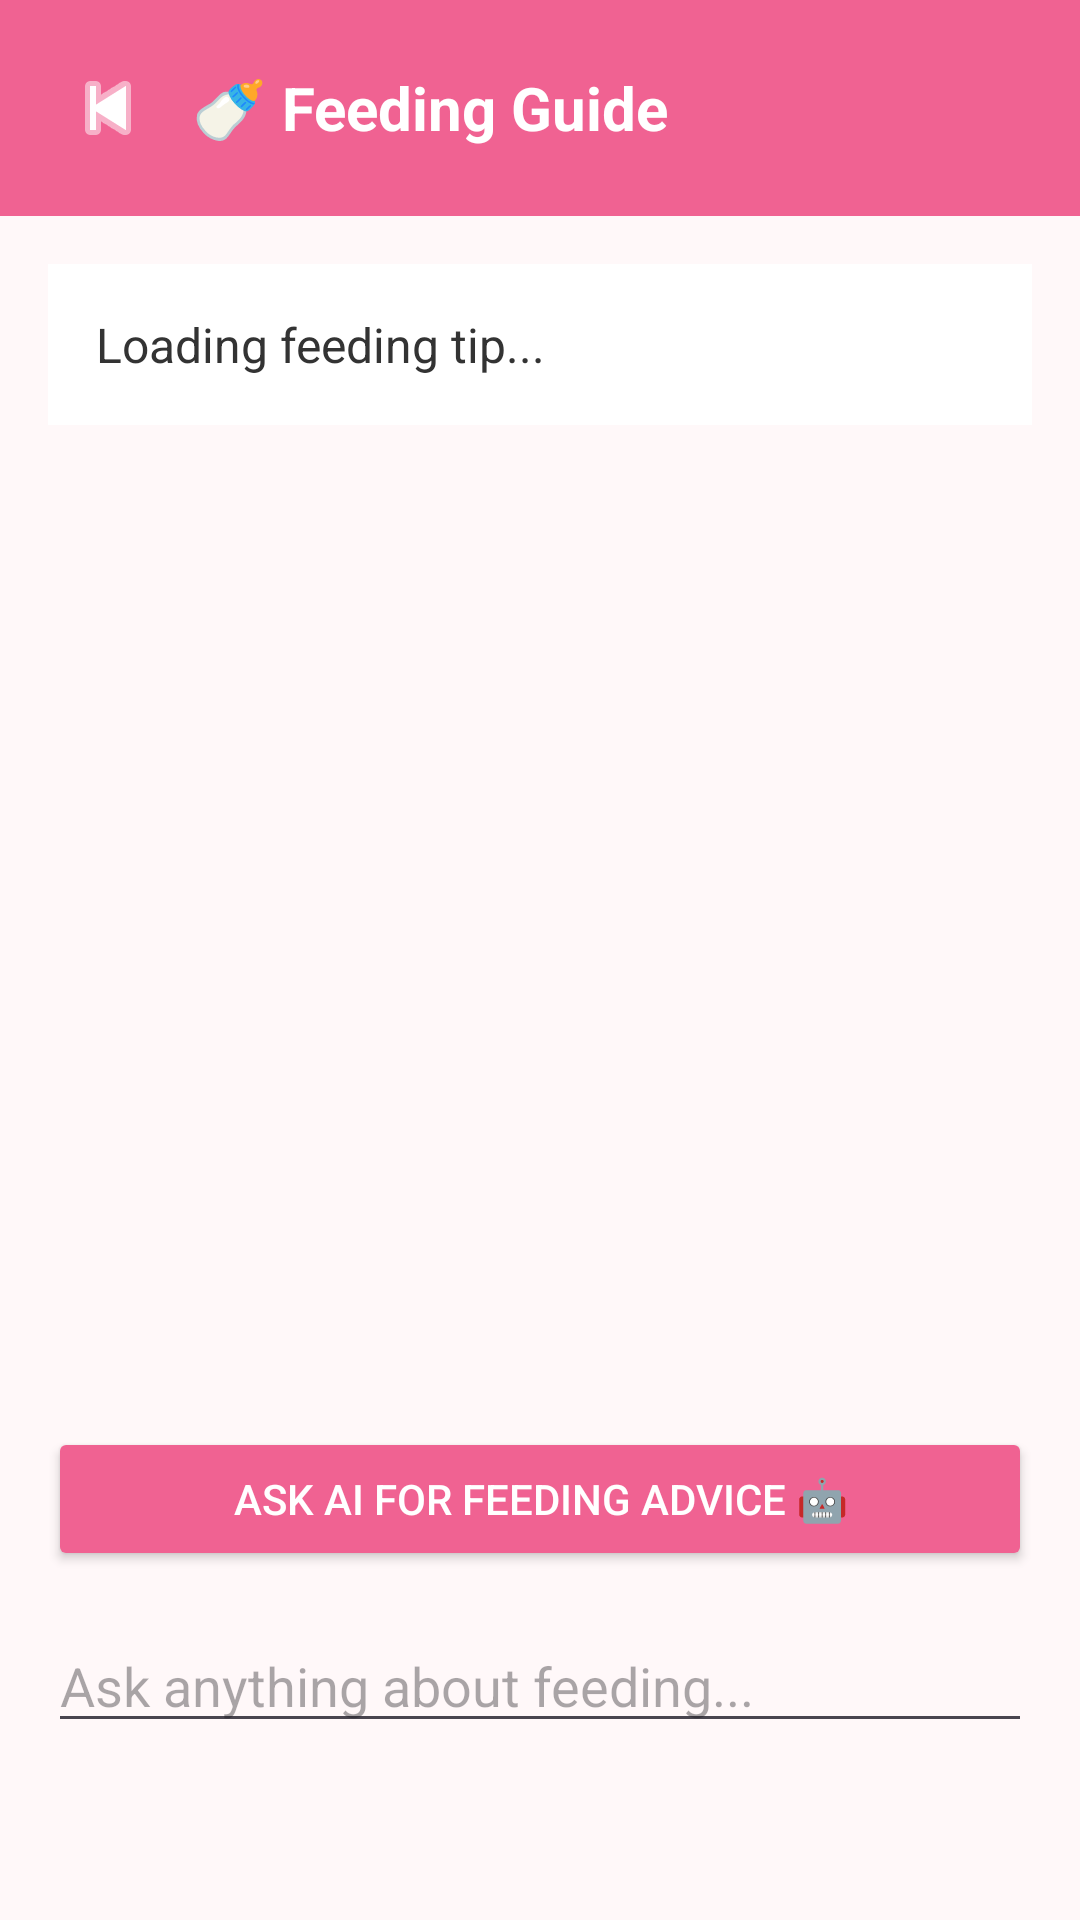

Screen size 1080x1920. Icon name, then its center in pixels as point (x, y):
previous: point (108, 108)
